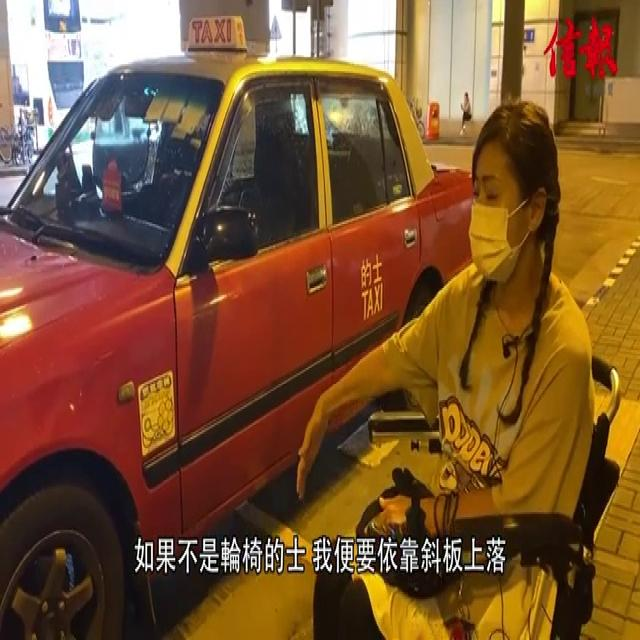wheelchairs: (357, 343, 630, 637)
